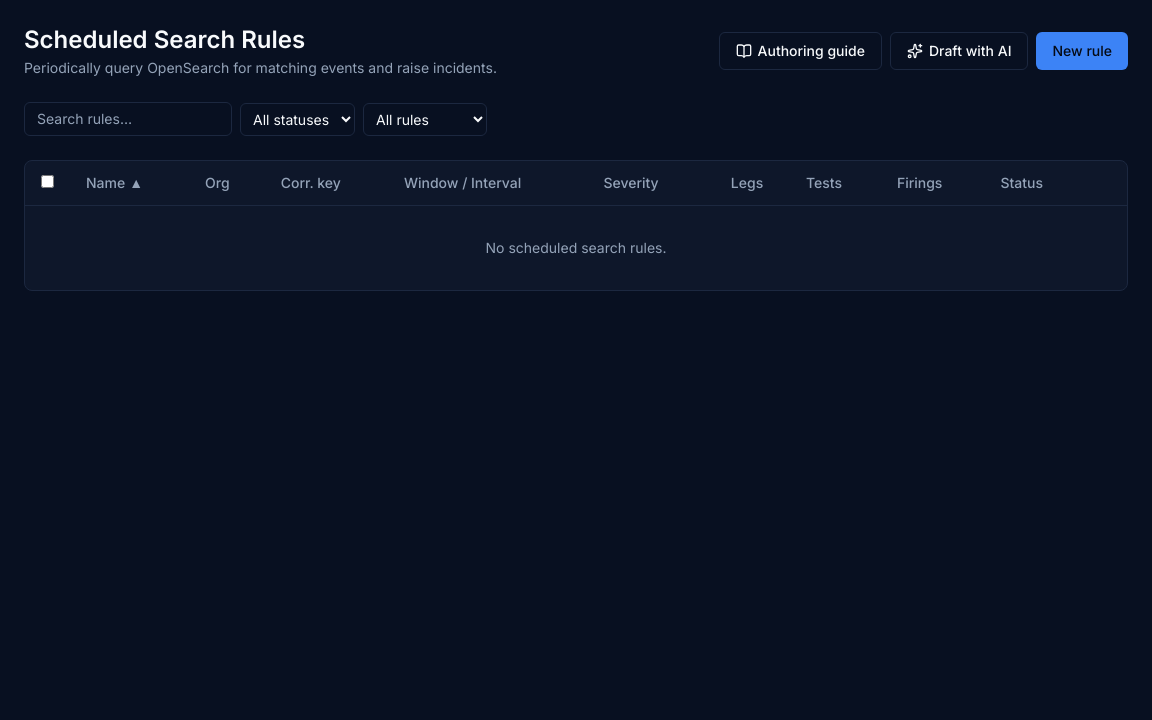
Test case: SearchRulesAdmin — Diversity Constraint UI › reveals the min-distinct input once a distinct field is entered
This screenshot has width=1152, height=720.
Click the button "New rule" at (1082, 51), box [1036,32,1128,70]
(page scrolled)
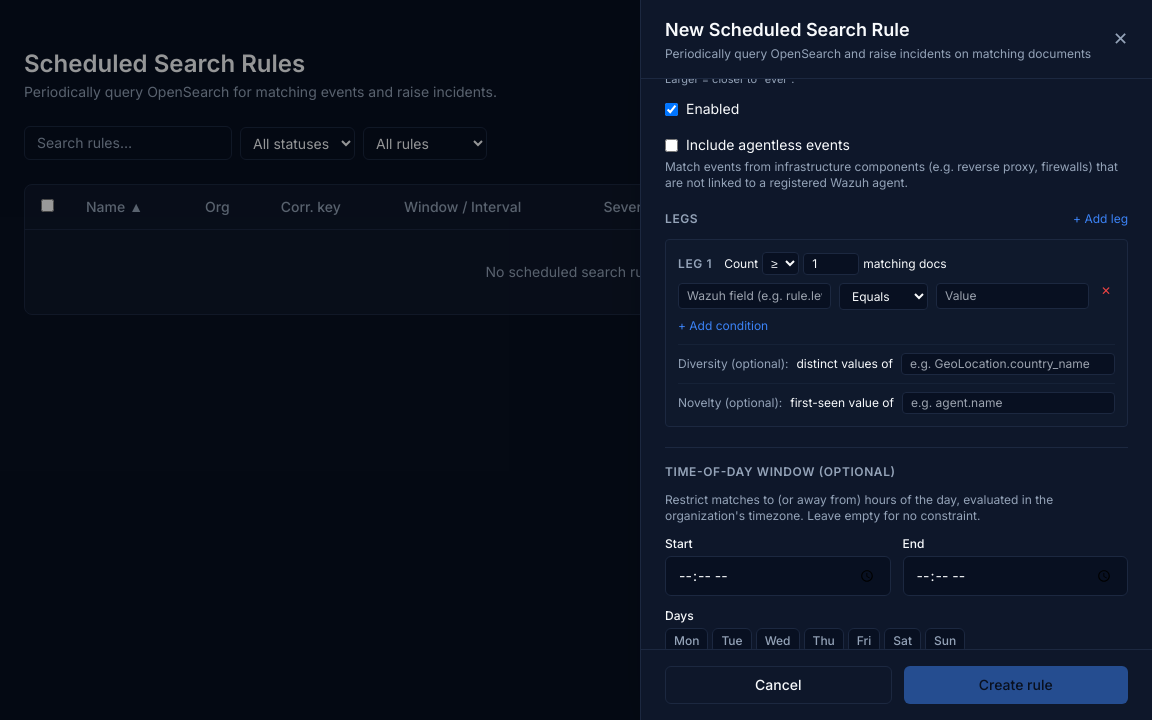
Now the field named "Leg 1 distinct field" is shown
Type "GeoLocation.country_name" into the field named "Leg 1 distinct field" at (1008, 364), box [901,353,1115,375]
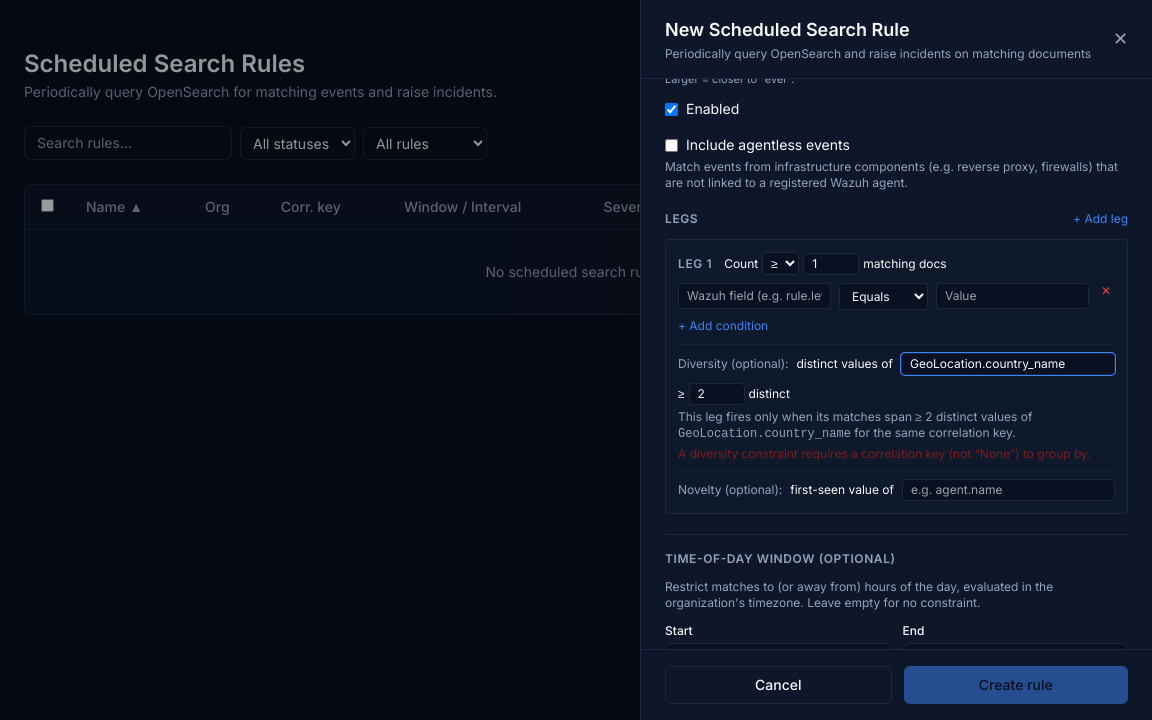
Now the number field named "Leg 1 min distinct" is shown, box [689,383,745,405]
